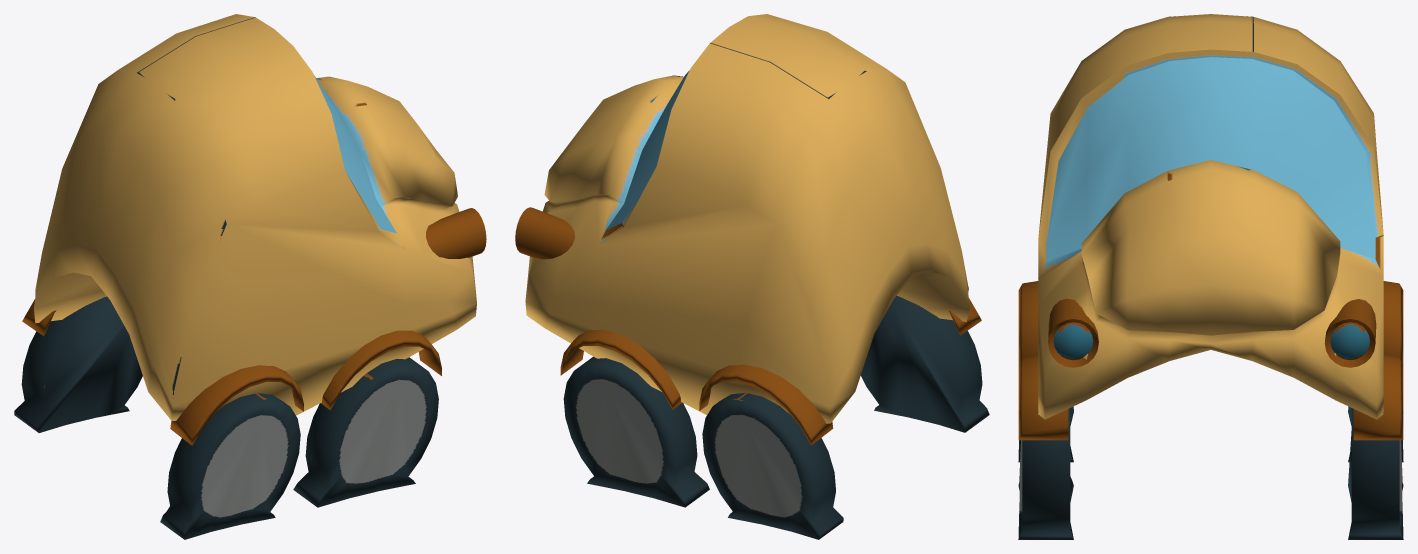
File: car.fbx
3 views of the same model, side by side, from view 1: azimuth 30°, elevation 25°; view 2: azimuth 150°, elevation 25°; view 3: azimuth 270°, elevation 25° (orthographic). The views are drawn at different scales.
Visible parts, largest first — view 1: Cube.002; view 2: Cube.002; view 3: Cube.002.
Part boxes in pixels (box(x1,y1,x2,y2)): Cube.002: box(14, 14, 486, 539); Cube.002: box(515, 14, 989, 539); Cube.002: box(1018, 14, 1403, 539).
Size of the model in its own units: 392 by 460 by 350.
